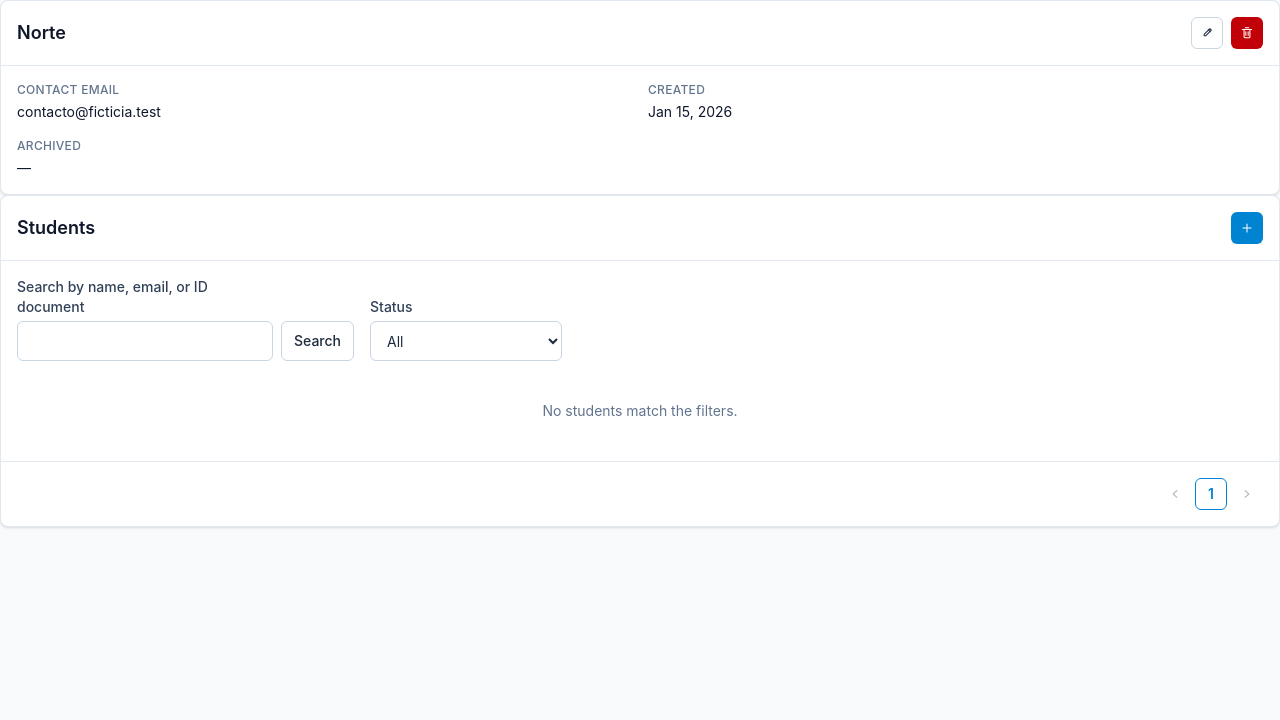
Test: InstitutionDetailPage › archives after confirmation and switches the page to read-only
Click the button named "Archive" at (1247, 33), box [1231, 17, 1263, 49]
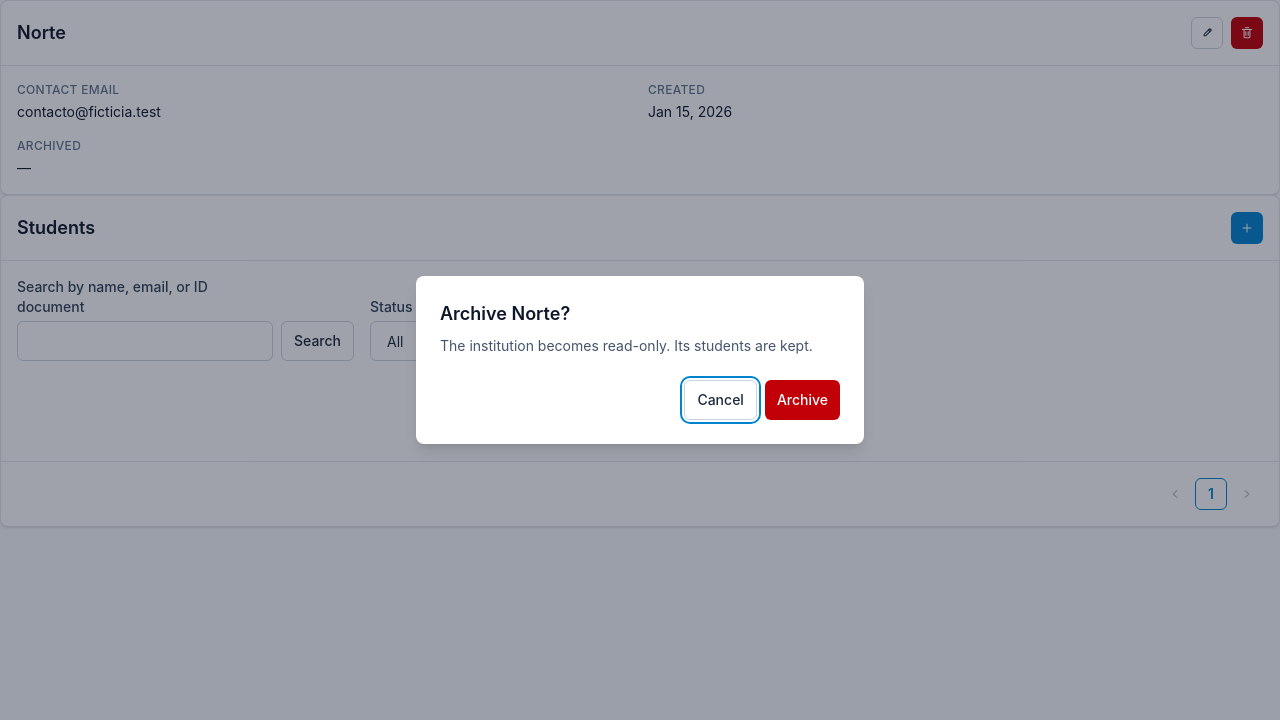
Click the button "Archive" at (802, 400), box [765, 380, 840, 420]
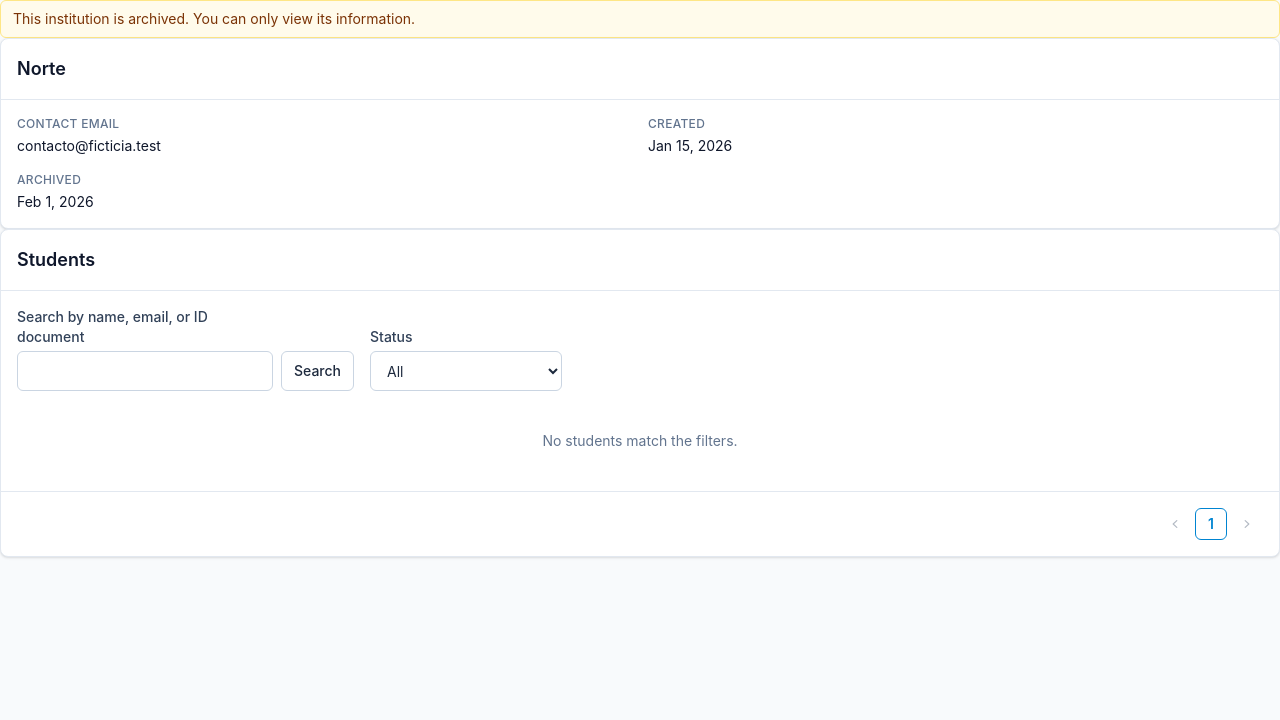
Expected: the dialog is gone
Expected: the text "This institution is archived" is shown, [13, 10, 415, 27]
Expected: the button "Edit" is gone
